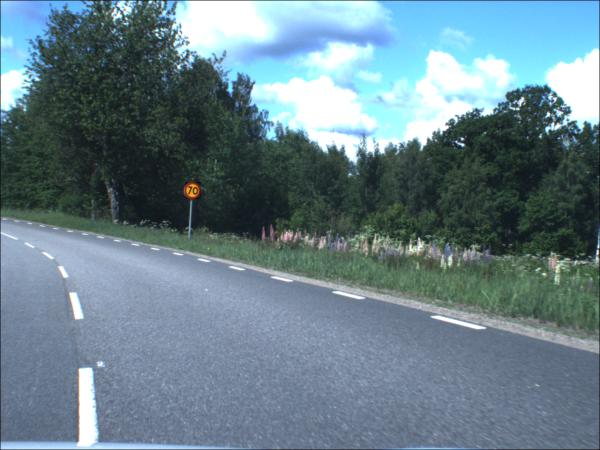70_SIGN: (186, 183, 203, 201)
